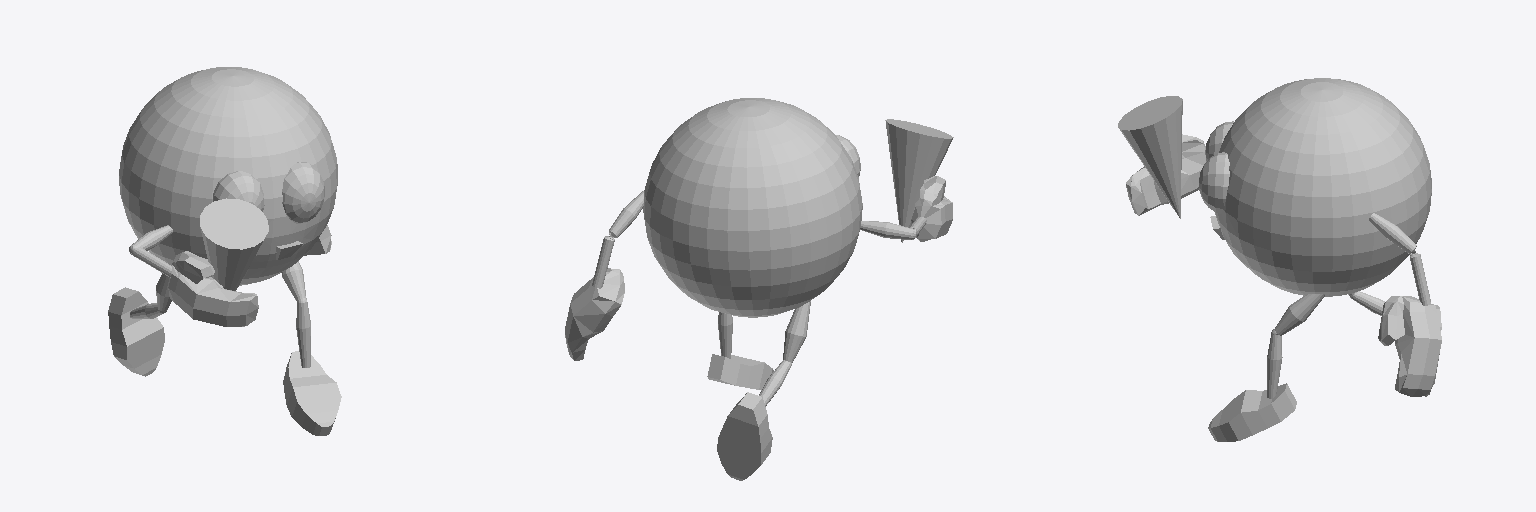
The model's file is Rusko_ani_03_000017.obj.
3 renders of one model, left to right at view 1: azimuth 30°, elevation 25°; view 2: azimuth 150°, elevation 25°; view 3: azimuth 270°, elevation 25°, orthographic.
Visible parts, largest first — view 1: Rusko_Sphere; view 2: Rusko_Sphere; view 3: Rusko_Sphere.
Part boxes in pixels (x1,y1,x2,y2): Rusko_Sphere: (108, 67, 341, 435); Rusko_Sphere: (565, 98, 953, 480); Rusko_Sphere: (1118, 78, 1441, 441).
Size of the model in its own units: 5.76 by 6.62 by 5.9.